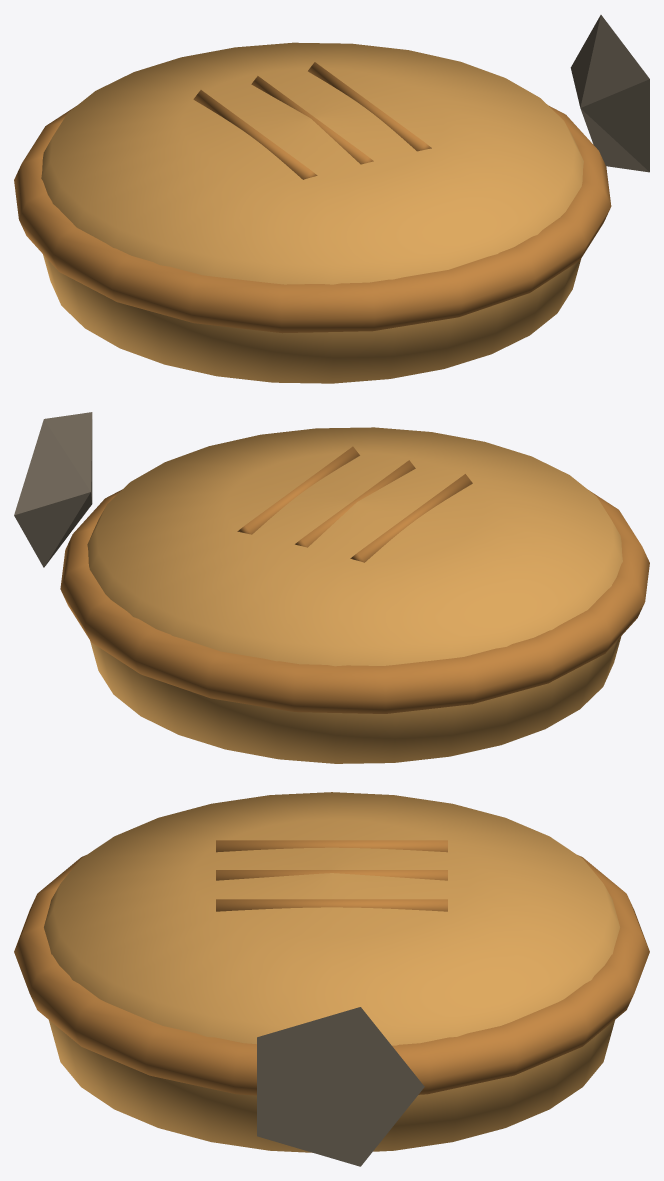
File: welspastete.glb
3 views of the same model, one above another, from view 1: azimuth 30°, elevation 25°; view 2: azimuth 150°, elevation 25°; view 3: azimuth 270°, elevation 25° (orthographic). The views are drawn at different scales.
Parts seen in each view (by area): view 1: d; view 2: d; view 3: d.
Boxes of the visible parts, left/top/right/bottom form: d: left=14, top=15, right=649, bottom=383; d: left=14, top=412, right=649, bottom=763; d: left=14, top=792, right=649, bottom=1166.
Bounding box in the file's own units: 0.296 × 0.088 × 0.274.
